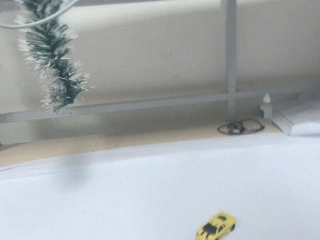toy_car: (194, 212, 236, 240)
